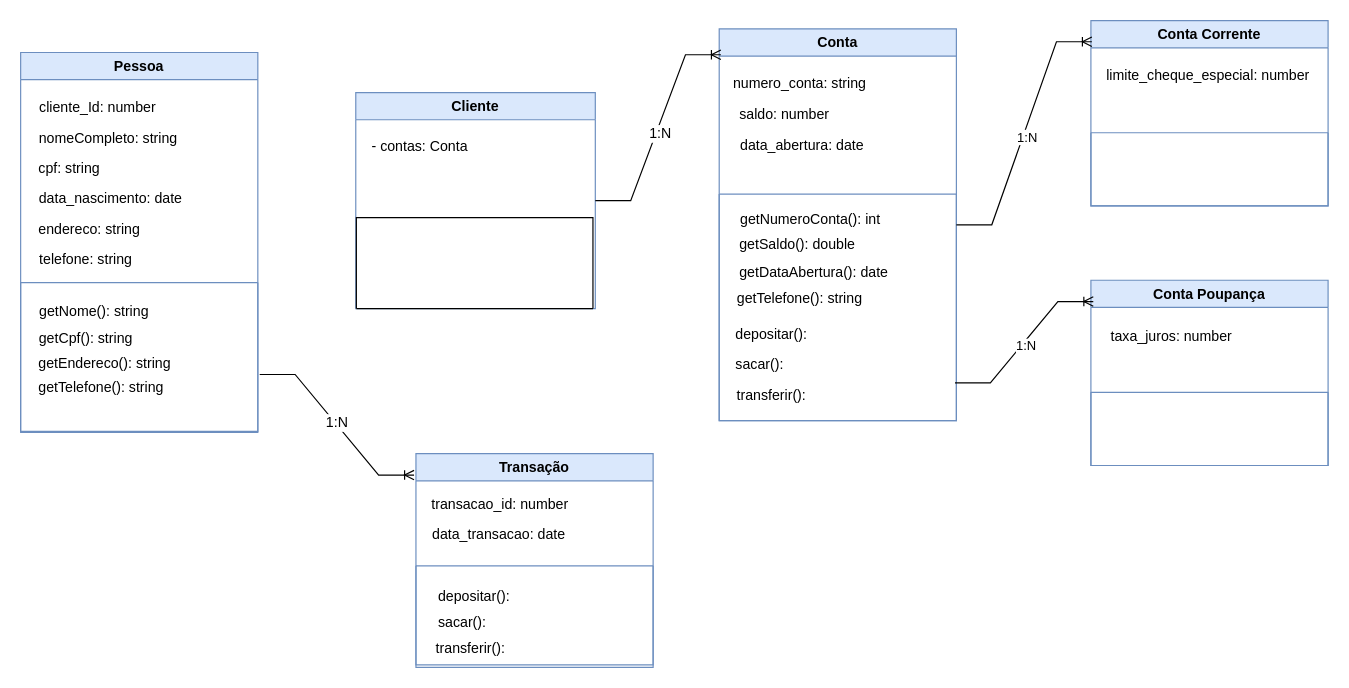
This 1349x688 diagram has some shape labels left out. The centre of each missing label's shape, as x and y in pixels:
getLimiteChequeEspecial: number: pixel 1209 169
getTaxaJuros: number: pixel 1209 428
obterContas(): List Contas: pixel 474 263
